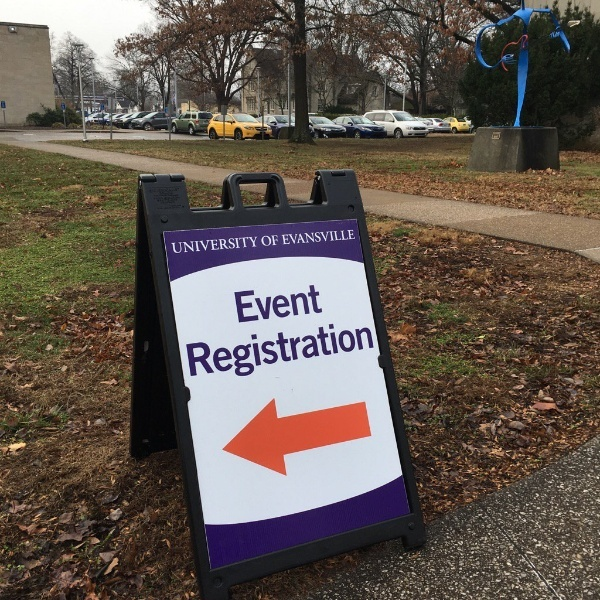text: (193, 319, 208, 385), (209, 319, 224, 385), (225, 319, 240, 385), (241, 319, 256, 385), (257, 319, 272, 385), (273, 319, 288, 385), (289, 319, 304, 385), (305, 319, 320, 385), (321, 319, 336, 385), (337, 319, 352, 385), (353, 319, 368, 385), (241, 285, 256, 325), (257, 285, 272, 325), (273, 285, 288, 325), (289, 285, 304, 325), (305, 285, 320, 325), (369, 319, 378, 385), (184, 319, 192, 385), (177, 235, 192, 254), (193, 235, 208, 254), (209, 235, 224, 254), (225, 235, 240, 254), (241, 235, 256, 254), (289, 228, 304, 247), (305, 228, 320, 247), (321, 228, 336, 247), (337, 228, 352, 247), (233, 285, 240, 325), (321, 285, 325, 325), (261, 235, 272, 247), (282, 228, 288, 247), (171, 235, 176, 254), (353, 228, 357, 247), (273, 235, 279, 247), (257, 235, 259, 254)
